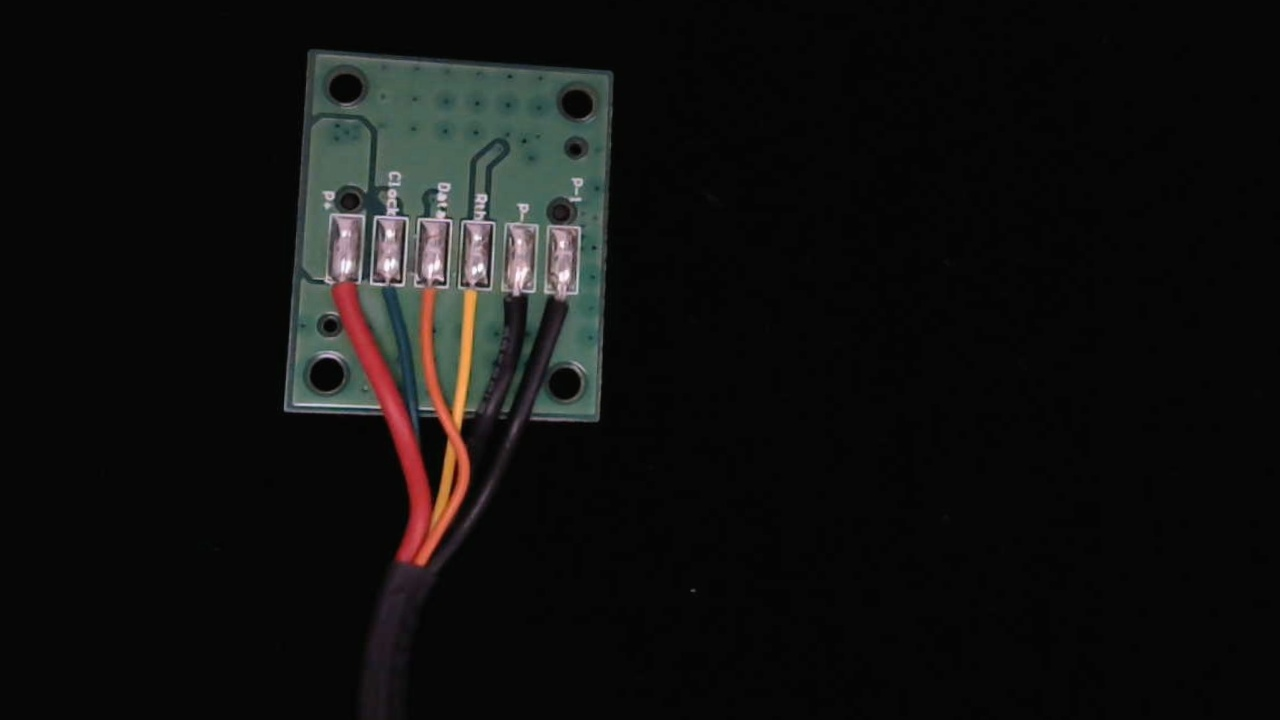Black: (499, 271, 536, 341)
Black1: (539, 272, 579, 348)
Green: (369, 265, 410, 329)
Orange: (411, 268, 444, 336)
Red: (324, 266, 364, 327)
Yellow: (456, 269, 493, 339)
